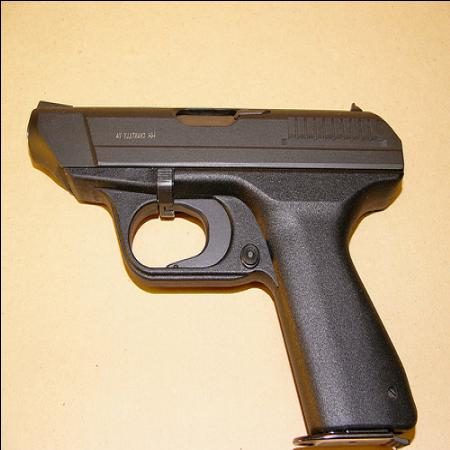Pistol: (28, 97, 418, 443)
